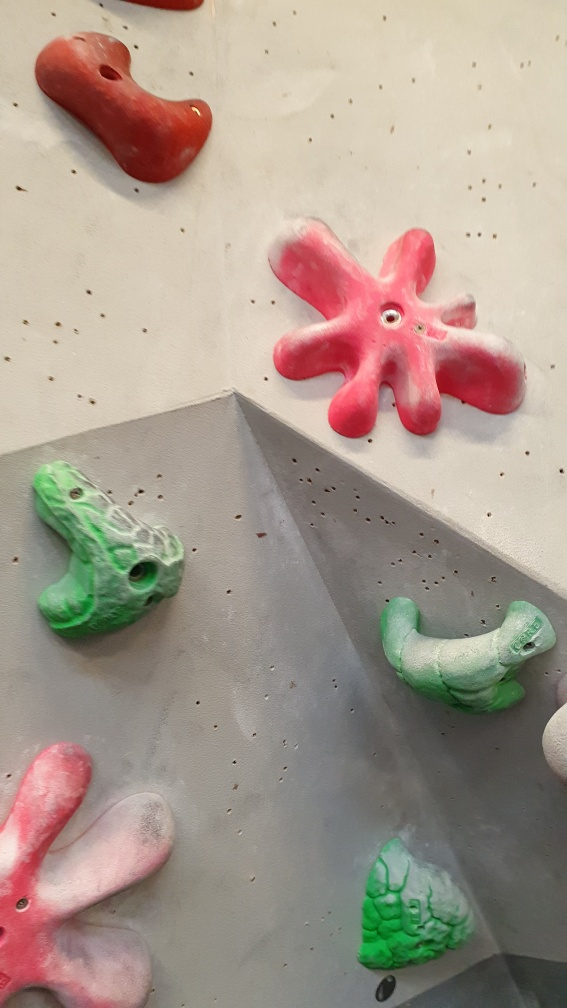Hand Start: (370, 970, 404, 1004)
Jug: (378, 579, 561, 722), (355, 830, 480, 982)
Octopus Pinch: (266, 209, 535, 445), (2, 740, 189, 1005)
